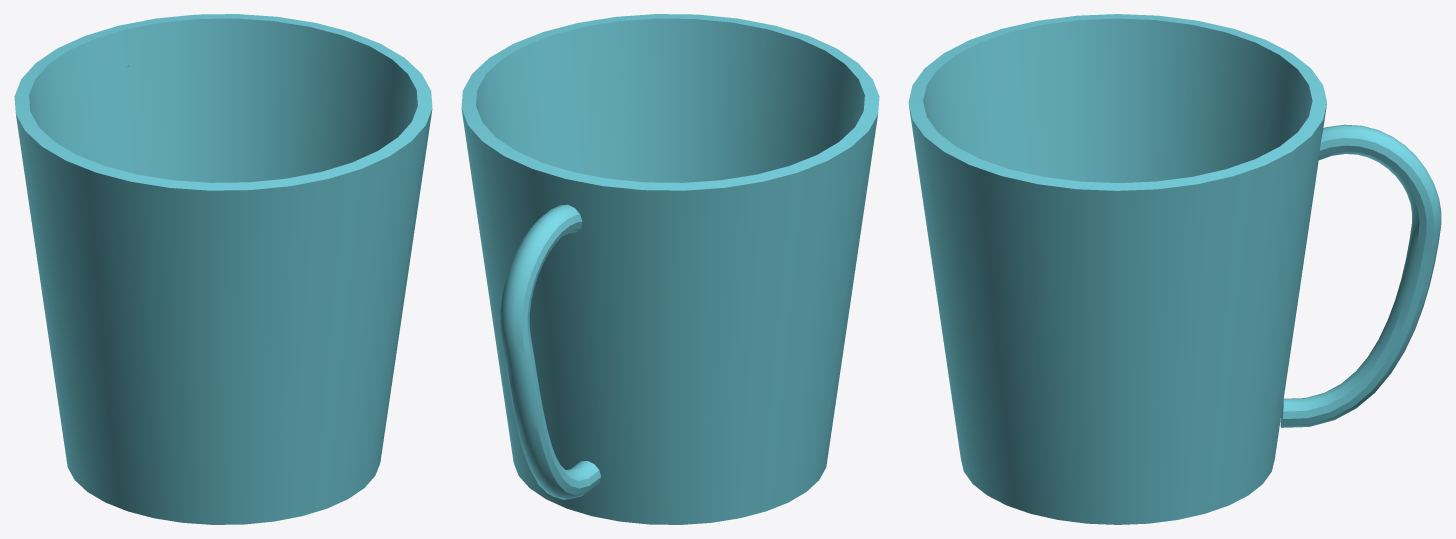
Rendered from cup.fbx.
The picture shows the model from 3 angles, left to right: view 1: azimuth 30°, elevation 25°; view 2: azimuth 150°, elevation 25°; view 3: azimuth 270°, elevation 25°; orthographic projection.
Visible parts, largest first — view 1: Cylinder.016; view 2: Cylinder.016, BezierCurve.001; view 3: Cylinder.016, BezierCurve.001.
Boxes of the visible parts, left/top/right/bottom form: Cylinder.016: left=14, top=14, right=432, bottom=524; Cylinder.016: left=461, top=14, right=879, bottom=524; BezierCurve.001: left=500, top=204, right=600, bottom=499; Cylinder.016: left=908, top=14, right=1326, bottom=524; BezierCurve.001: left=1280, top=124, right=1441, bottom=427.
Size of the model in its own units: 37.93 by 35.76 by 48.28.
